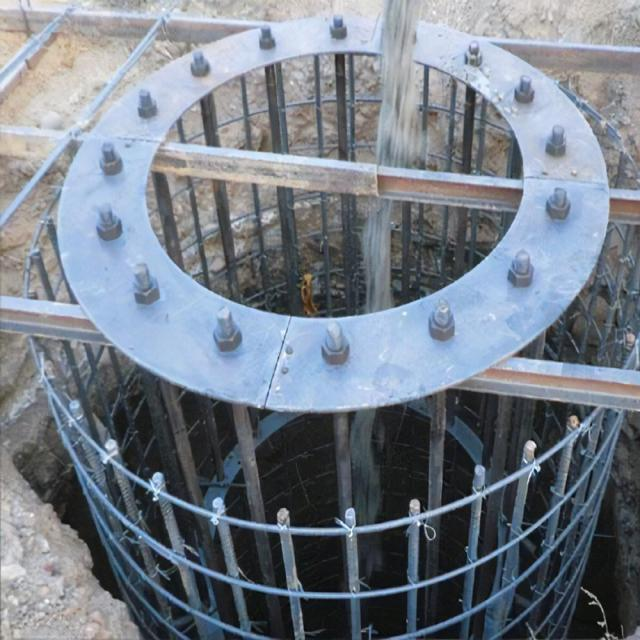blur bolt: (543, 189, 573, 221), (543, 130, 569, 158), (134, 93, 160, 121), (510, 80, 537, 106), (186, 51, 212, 78), (324, 18, 352, 42), (461, 42, 484, 70), (255, 29, 278, 52)
bolt nut: (316, 328, 352, 367), (211, 318, 244, 357), (503, 255, 536, 292), (426, 308, 458, 344), (93, 208, 125, 244), (131, 272, 161, 306), (95, 147, 125, 179)
